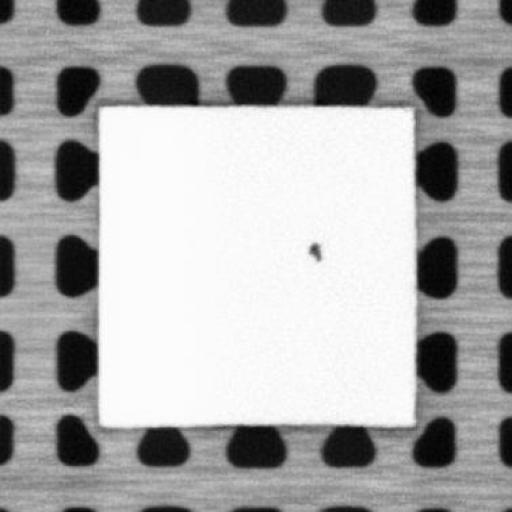DIE_INK: (304, 239, 324, 262)
